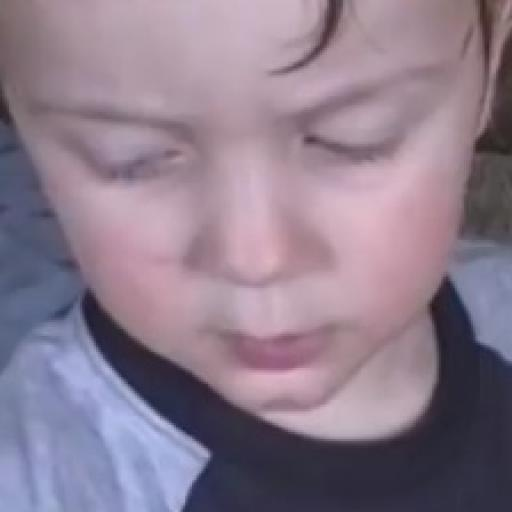Autism: (0, 4, 512, 460)
